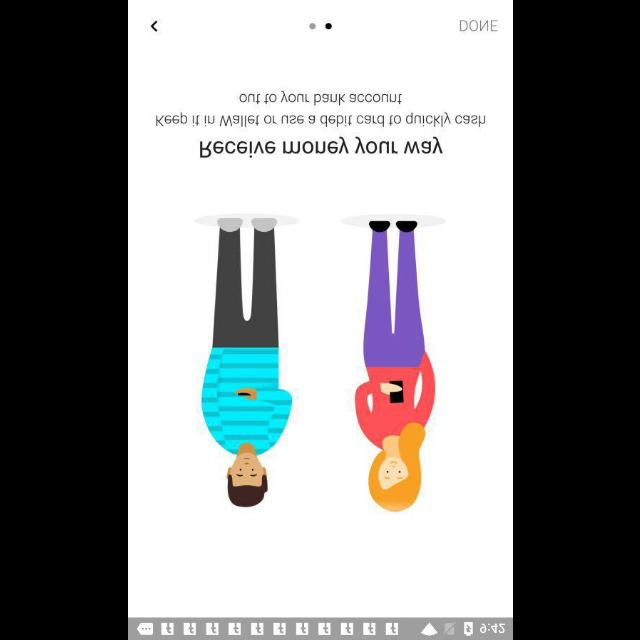icon: (150, 20, 158, 32)
image: (193, 212, 447, 512)
pageindicator: (308, 22, 332, 30)
text: (155, 90, 485, 128), (199, 136, 443, 158), (459, 18, 498, 32)
uppertaskbar: (128, 617, 512, 639)
